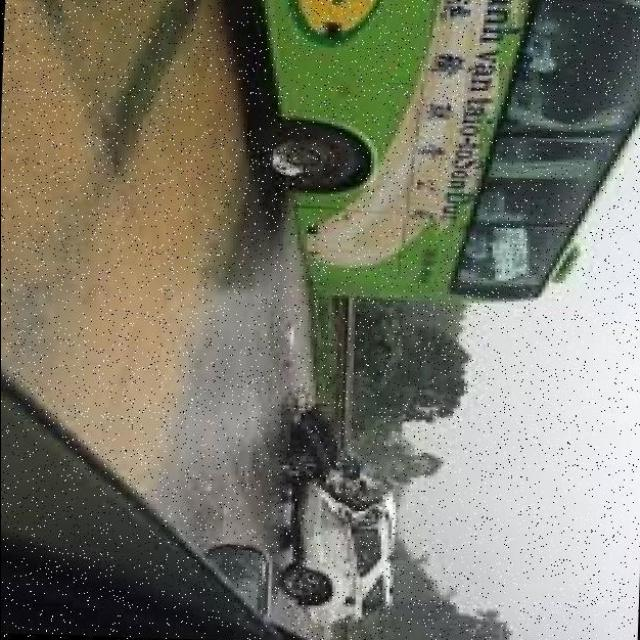accident: (259, 372, 445, 624)
